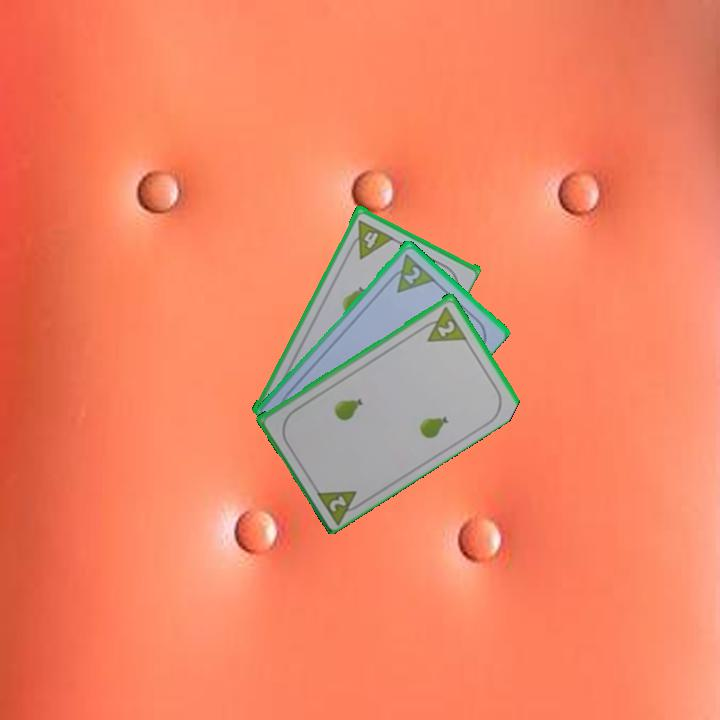2p: (383, 249, 437, 296), (312, 485, 368, 526), (416, 302, 469, 345)
4p: (344, 216, 395, 261)
